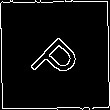P_NE: (24, 24, 86, 86)
